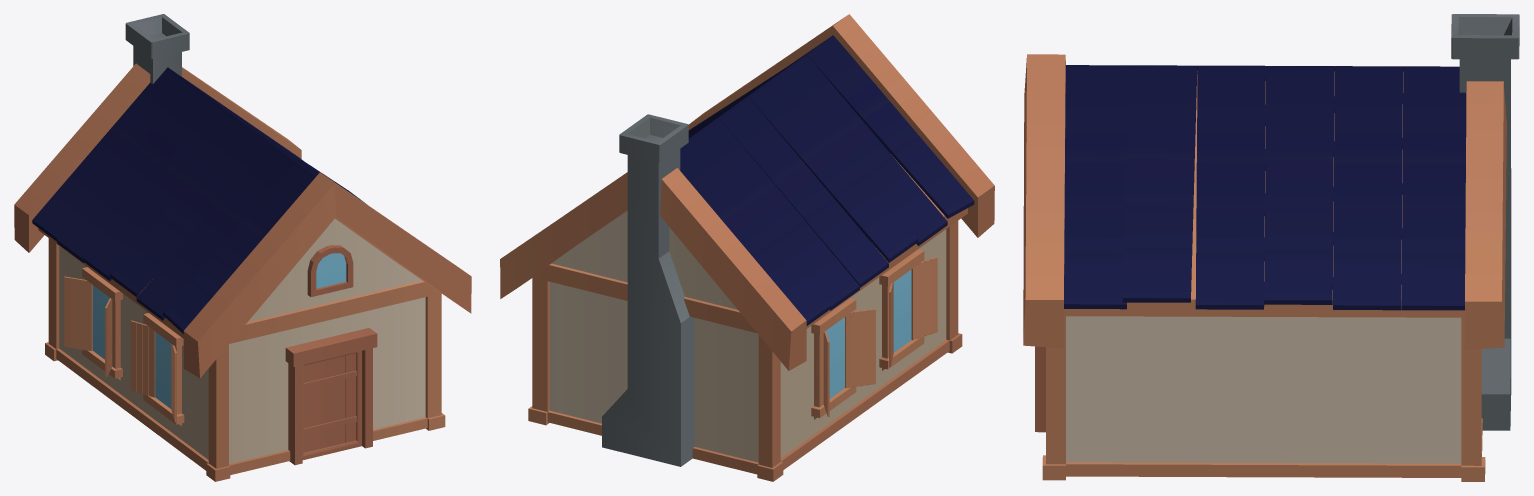
File: CasaChamine_Aldeao.fbx
The picture shows the model from 3 angles, left to right: view 1: azimuth 30°, elevation 25°; view 2: azimuth 150°, elevation 25°; view 3: azimuth 270°, elevation 25°; orthographic projection. The views are drawn at different scales.
Visible parts, largest first — view 1: CasaChamine_Aldeao.001; view 2: CasaChamine_Aldeao.001; view 3: CasaChamine_Aldeao.001.
Boxes of the visible parts, <box> form: CasaChamine_Aldeao.001: <box>14,14,471,481</box>; CasaChamine_Aldeao.001: <box>500,14,994,481</box>; CasaChamine_Aldeao.001: <box>1023,14,1519,481</box>.
Size of the model in its own units: 458 by 476 by 560.
